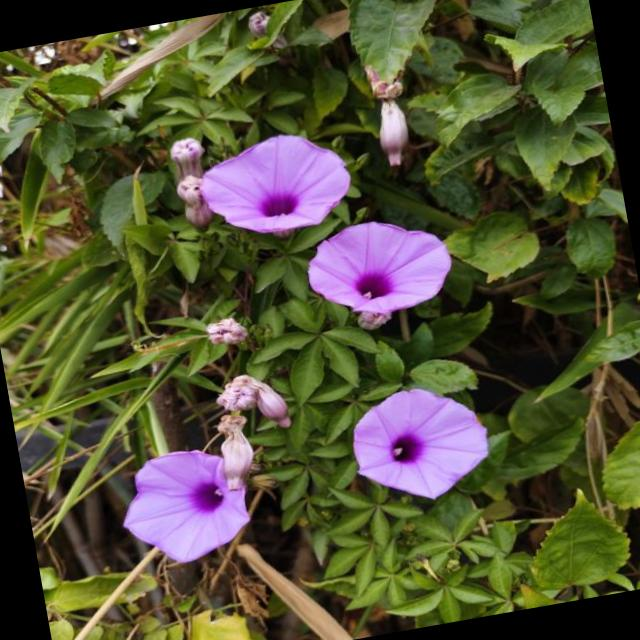ipomoea: (55, 91, 509, 574), (339, 374, 501, 514), (188, 121, 362, 251), (107, 437, 262, 576), (295, 205, 462, 333)
